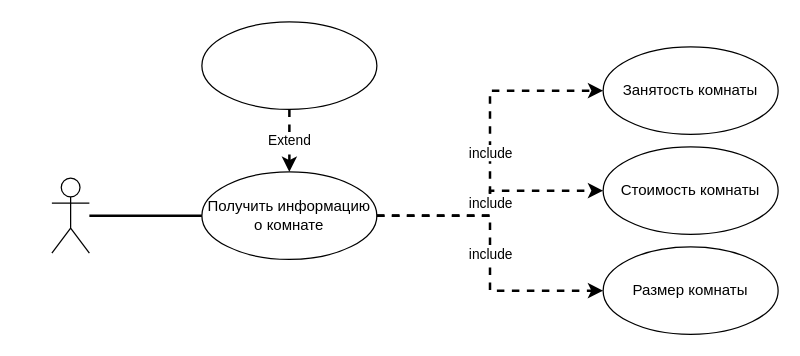
This 800x356 diagram has some shape labels left out. Here are the shapes that lost their labels. From the top down, the box of each, then its label:
(201, 21, 377, 109): Получить информацию о комнате на электронную почту
(51, 177, 89, 253): Пользователь
